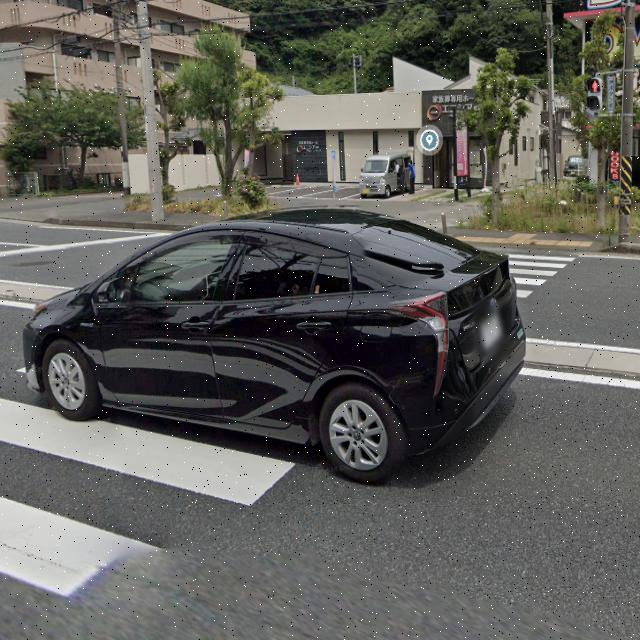traffic-light: (576, 73, 604, 124)
